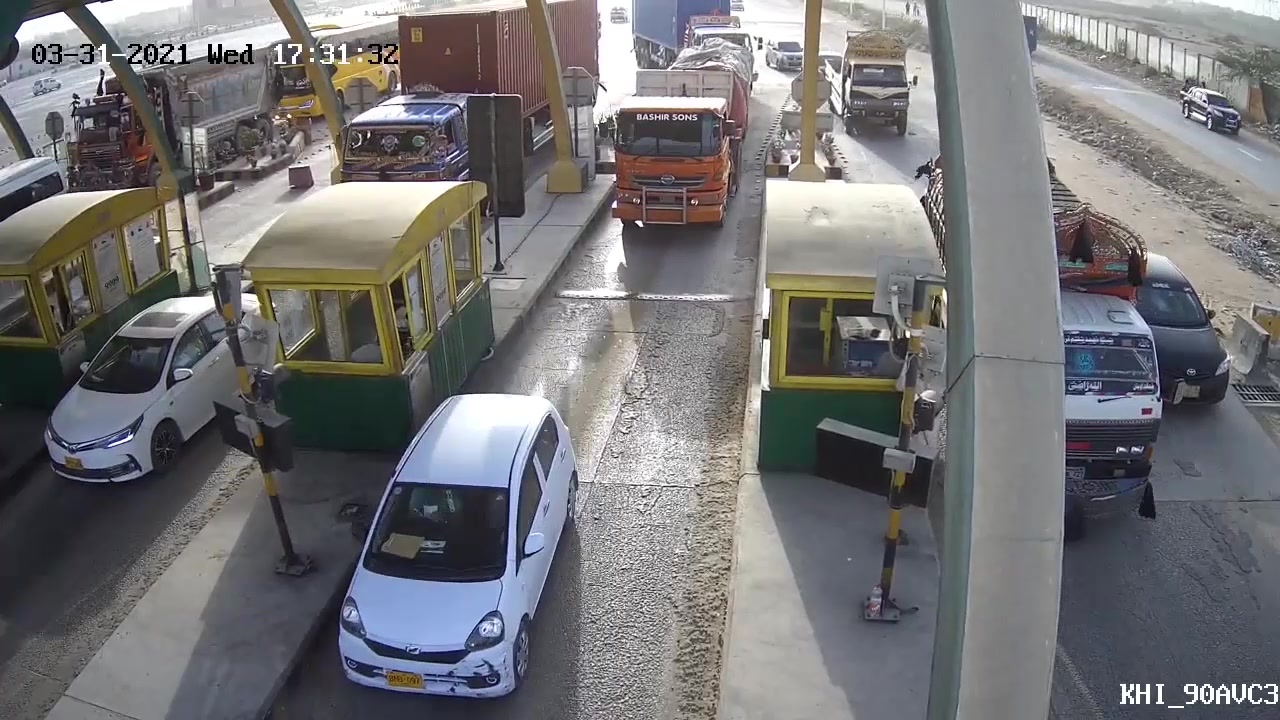F1: (328, 394, 581, 703)
